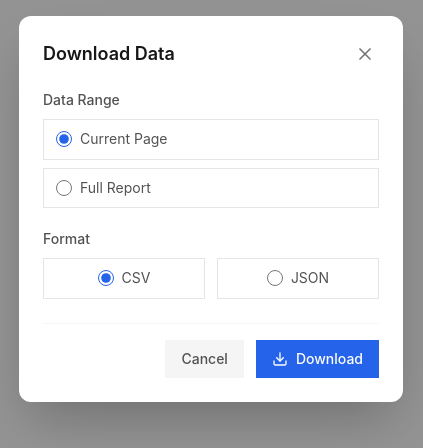
V1DownloadModal › allows changing format
Click the text "JSON".
click(310, 278)  # box top-left (291, 267), bottom-right (329, 290)
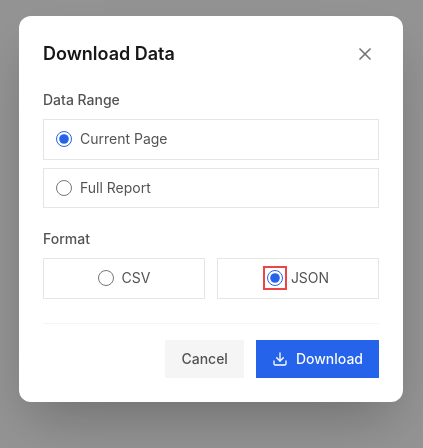
Result: the radio button showing "json" is checked at top-left (267, 270), bottom-right (283, 286)
